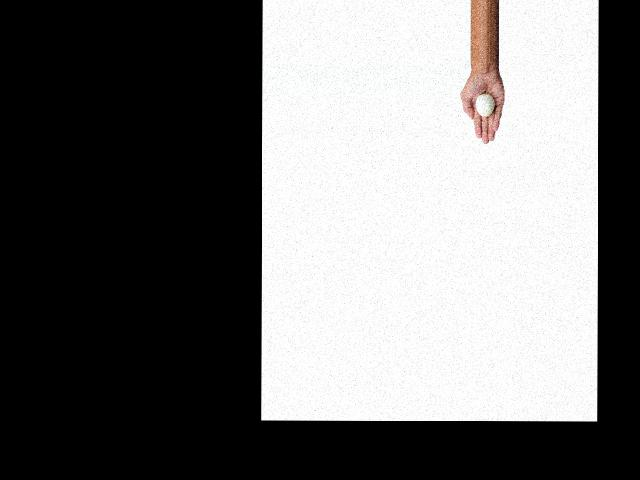egg: (476, 94, 494, 117)
